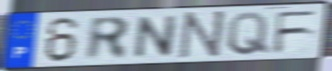6: (43, 16, 81, 65)
F: (270, 9, 321, 56)
N: (176, 9, 229, 60), (130, 14, 181, 61)
Q: (226, 11, 271, 58)
R: (85, 16, 132, 63)
